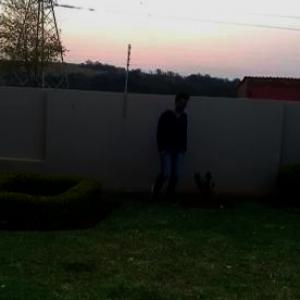follow: (152, 89, 188, 208)
